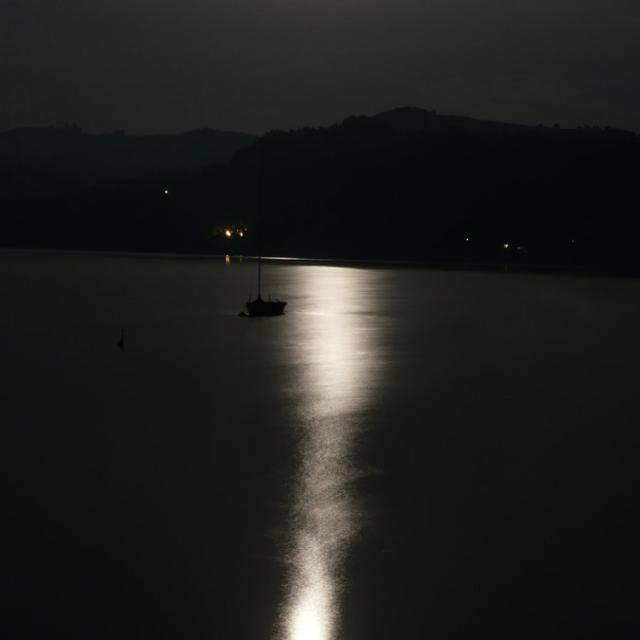Boat: (249, 247, 286, 336)
